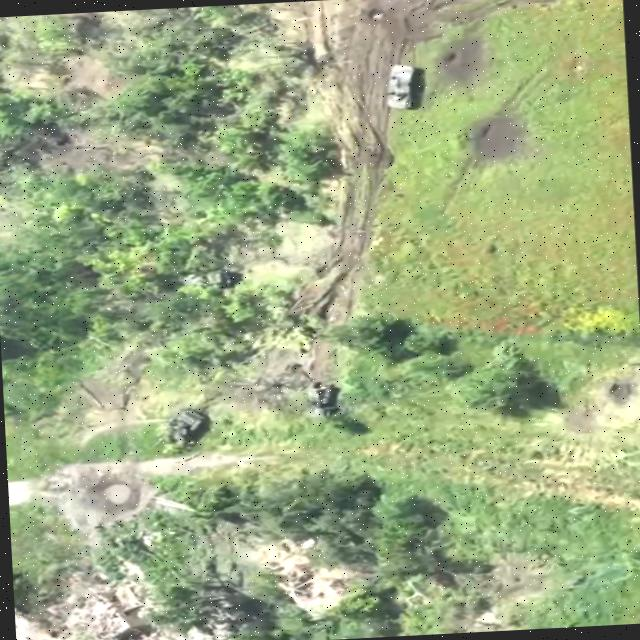AIFV: (384, 60, 425, 112)
MBT: (143, 407, 216, 457)
Vehicle: (175, 267, 240, 291), (306, 381, 342, 421)
